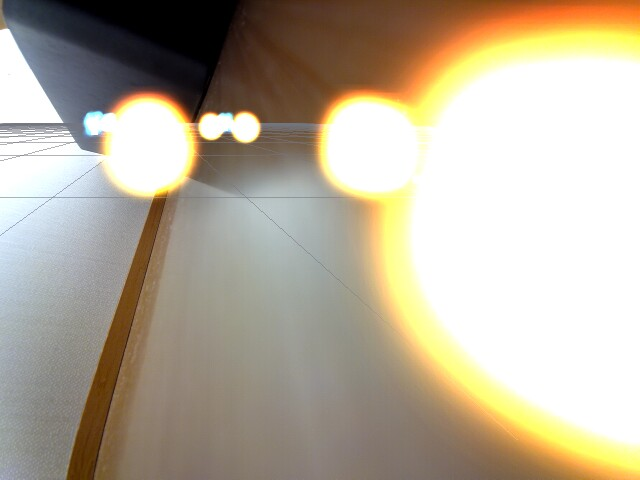firebig: (420, 25, 639, 470)
